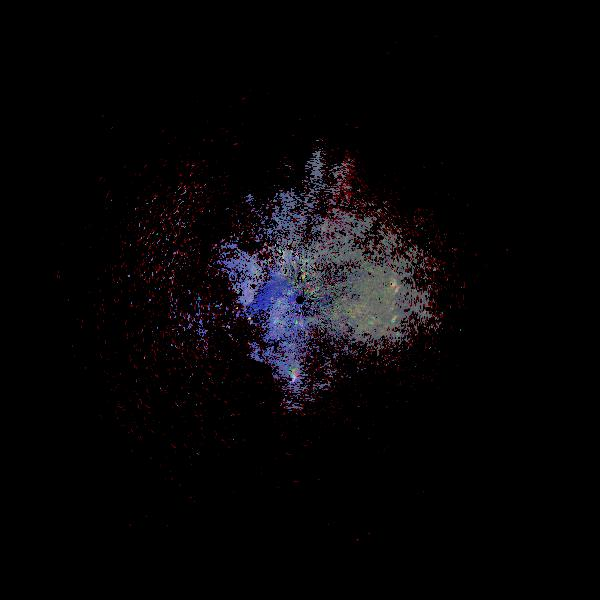roost: (281, 365, 305, 389)
